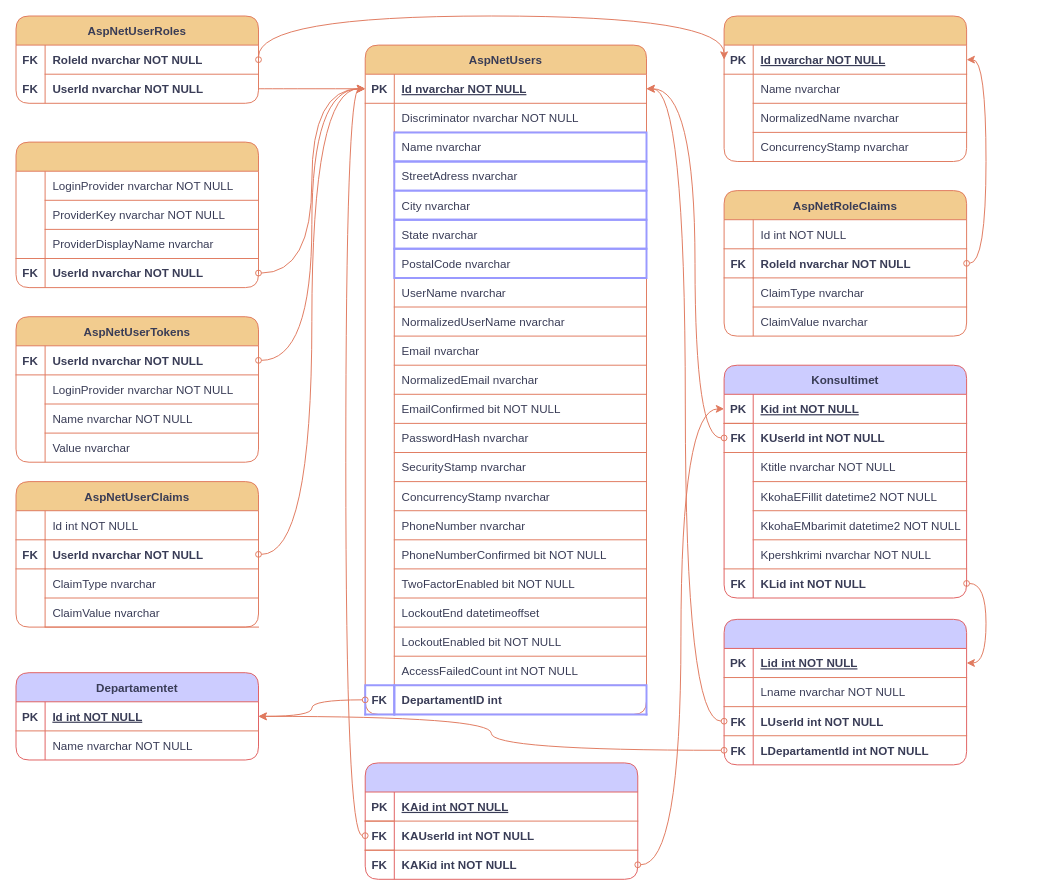
Some shapes in this 1041 by 895 pixel diagram are drawn without their labels. The shapes that lost their labels are listed below. From the top down, each one's box as (x1, y1, x2, y2) in pixels, then its label:
(723, 15, 967, 162): AspNetRoles
(15, 141, 259, 288): AspNetUserLogins
(723, 618, 967, 765): Lendet
(364, 762, 638, 879): KonsultimAttend
